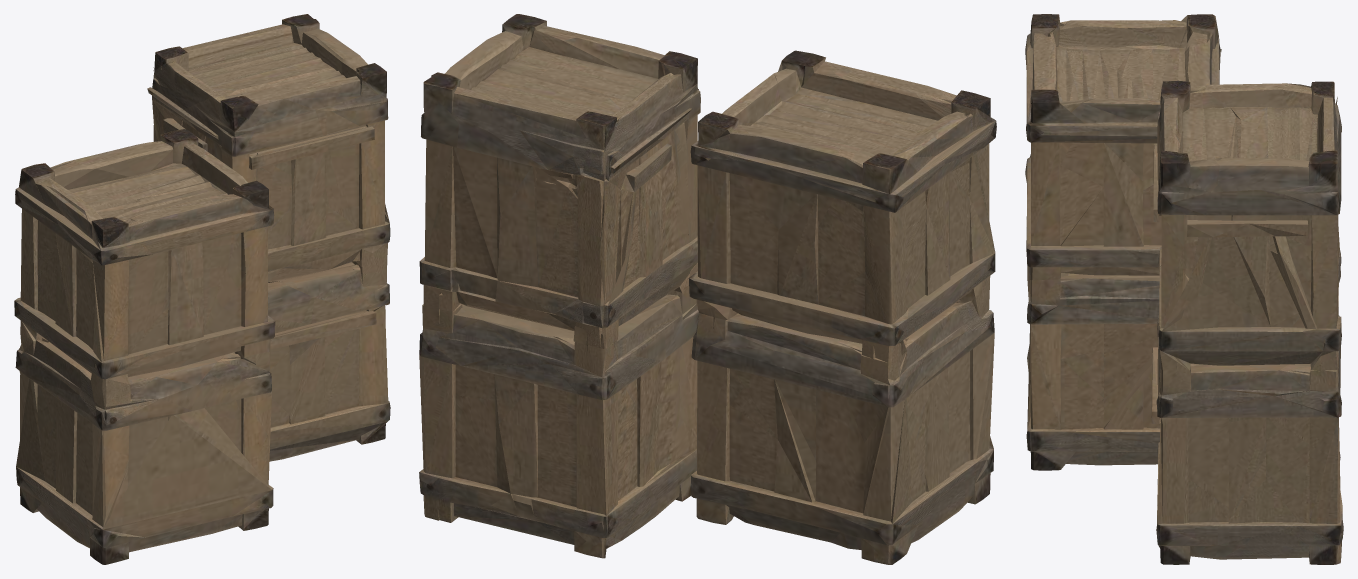
Rendered from crate_stack.glb.
3 views of the same model, side by side, from view 1: azimuth 30°, elevation 25°; view 2: azimuth 150°, elevation 25°; view 3: azimuth 270°, elevation 25° (orthographic). The views are drawn at different scales.
Parts seen in each view (by area): view 1: Mesh_0; view 2: Mesh_0; view 3: Mesh_0.
Boxes of the visible parts, bbox=[...] form: Mesh_0: bbox=[14, 14, 390, 564]; Mesh_0: bbox=[419, 14, 996, 564]; Mesh_0: bbox=[1025, 14, 1343, 564].
Bounding box in the file's own units: 1.4 × 1.39 × 1.
Materials: 1 (1 with a texture image).
